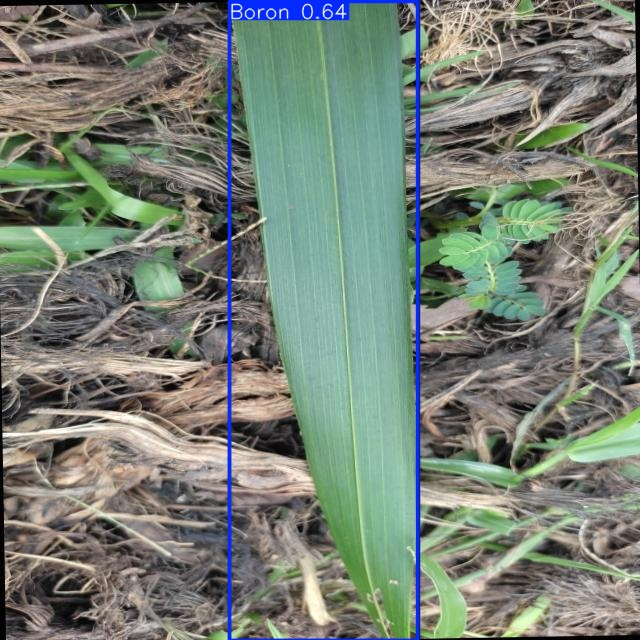Boron: (229, 1, 417, 640)
nitrogen: (229, 0, 419, 640)
